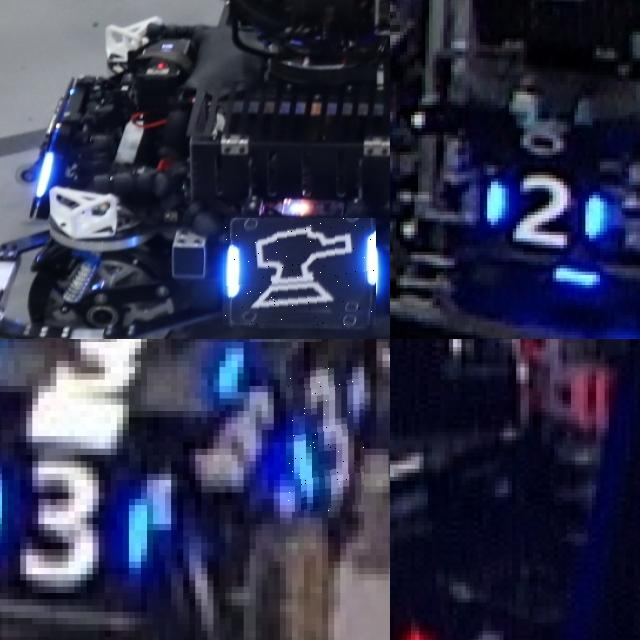B2: (491, 168, 607, 252)
B3: (0, 455, 141, 593), (0, 339, 268, 411), (286, 367, 364, 512)
Bs: (223, 218, 376, 325)
